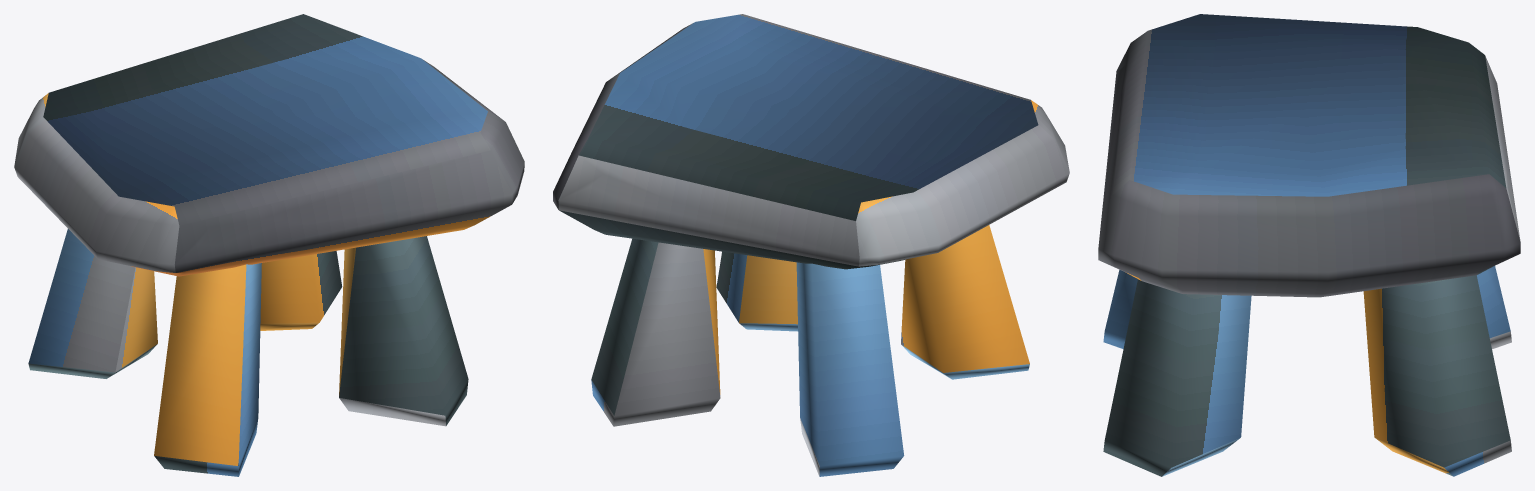
File: CharSkyKid_Prop_Stool.glb
The picture shows the model from 3 angles, left to right: view 1: azimuth 30°, elevation 25°; view 2: azimuth 150°, elevation 25°; view 3: azimuth 270°, elevation 25°; orthographic projection. The views are drawn at different scales.
Visible parts, largest first — view 1: CharSkyKid_Prop_Stool; view 2: CharSkyKid_Prop_Stool; view 3: CharSkyKid_Prop_Stool.
Part boxes in pixels (x1,y1,x2,y2): CharSkyKid_Prop_Stool: (14, 14, 524, 476); CharSkyKid_Prop_Stool: (553, 14, 1069, 476); CharSkyKid_Prop_Stool: (1098, 14, 1520, 476).
Size of the model in its own units: 4.37 by 2.73 by 3.53.
1 material, 1 textured.
